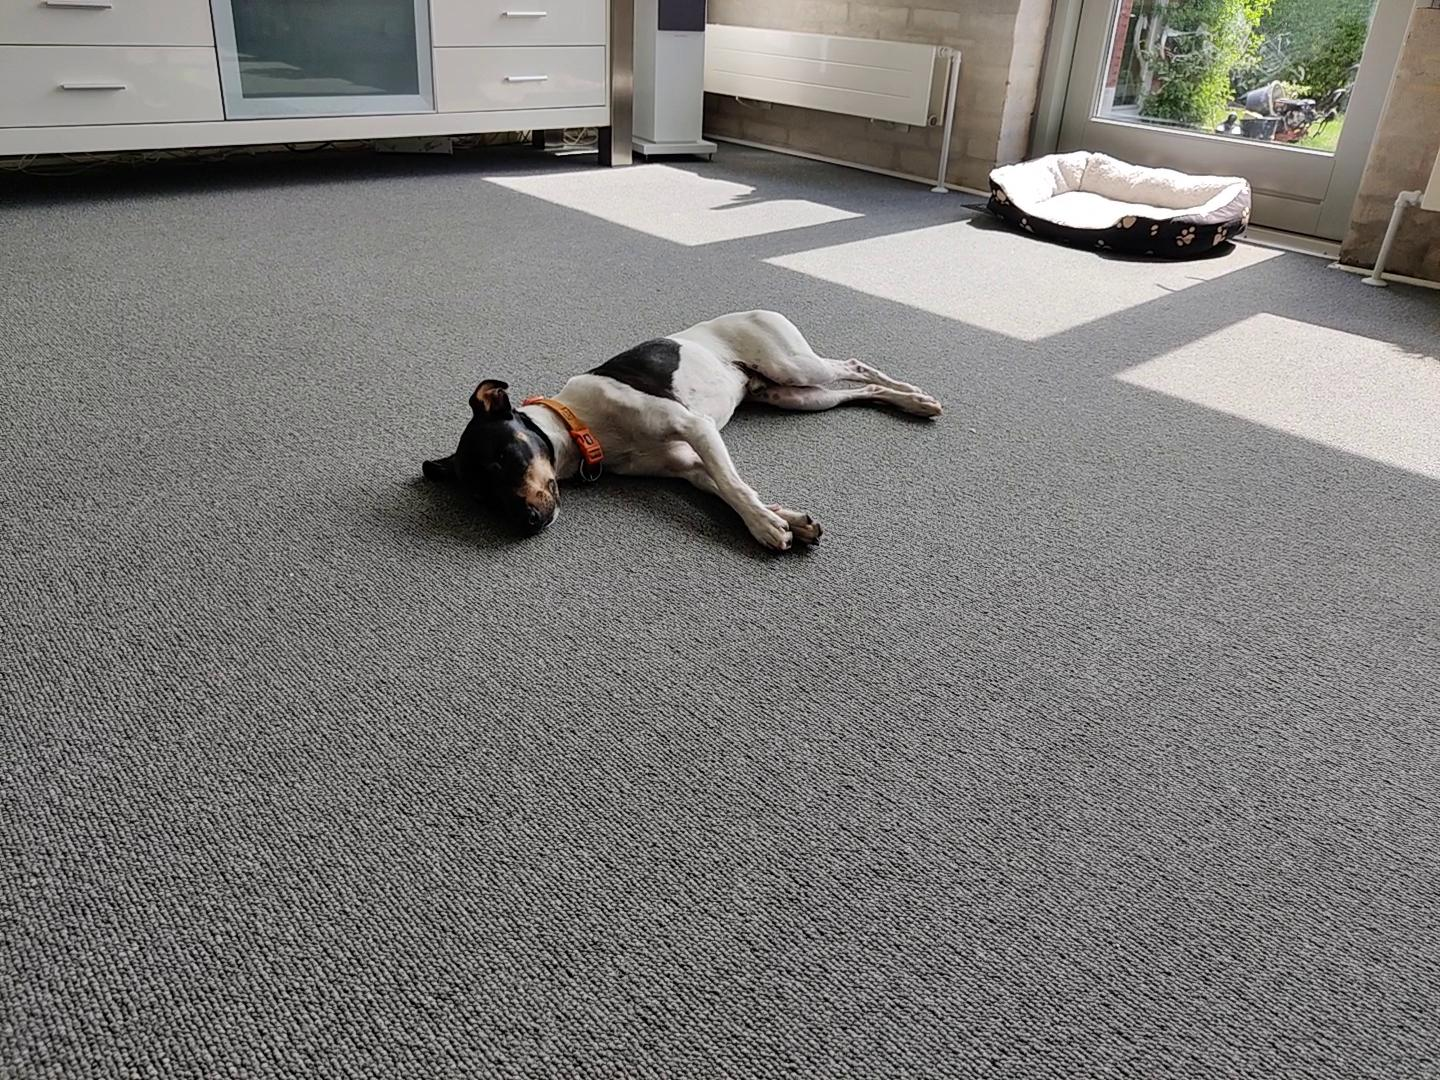Dog: (416, 306, 943, 552)
